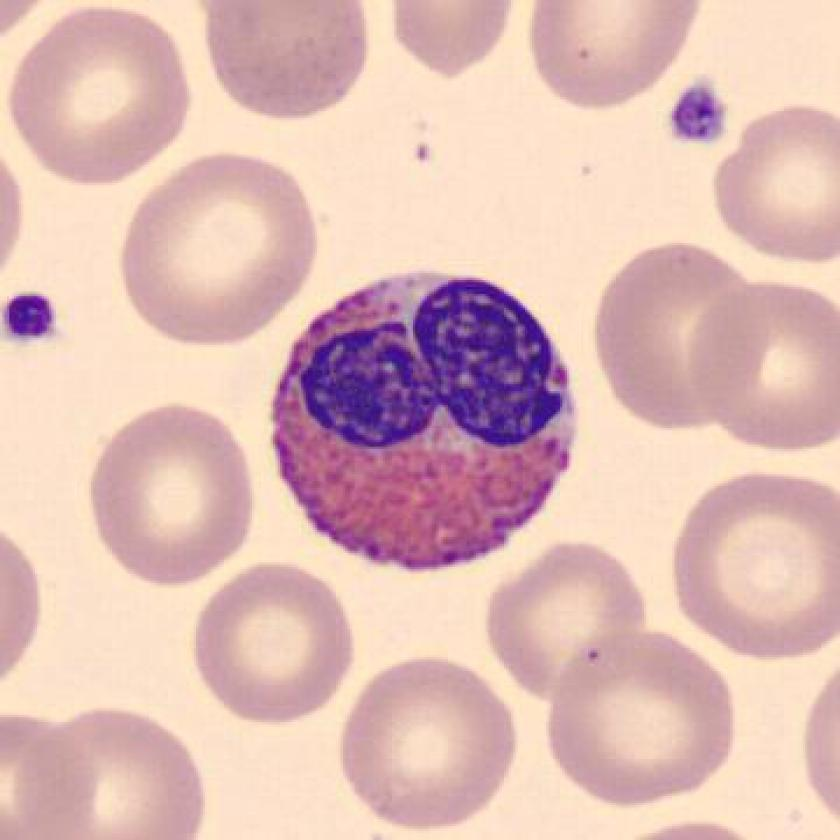eosinophil: (253, 258, 589, 586)
